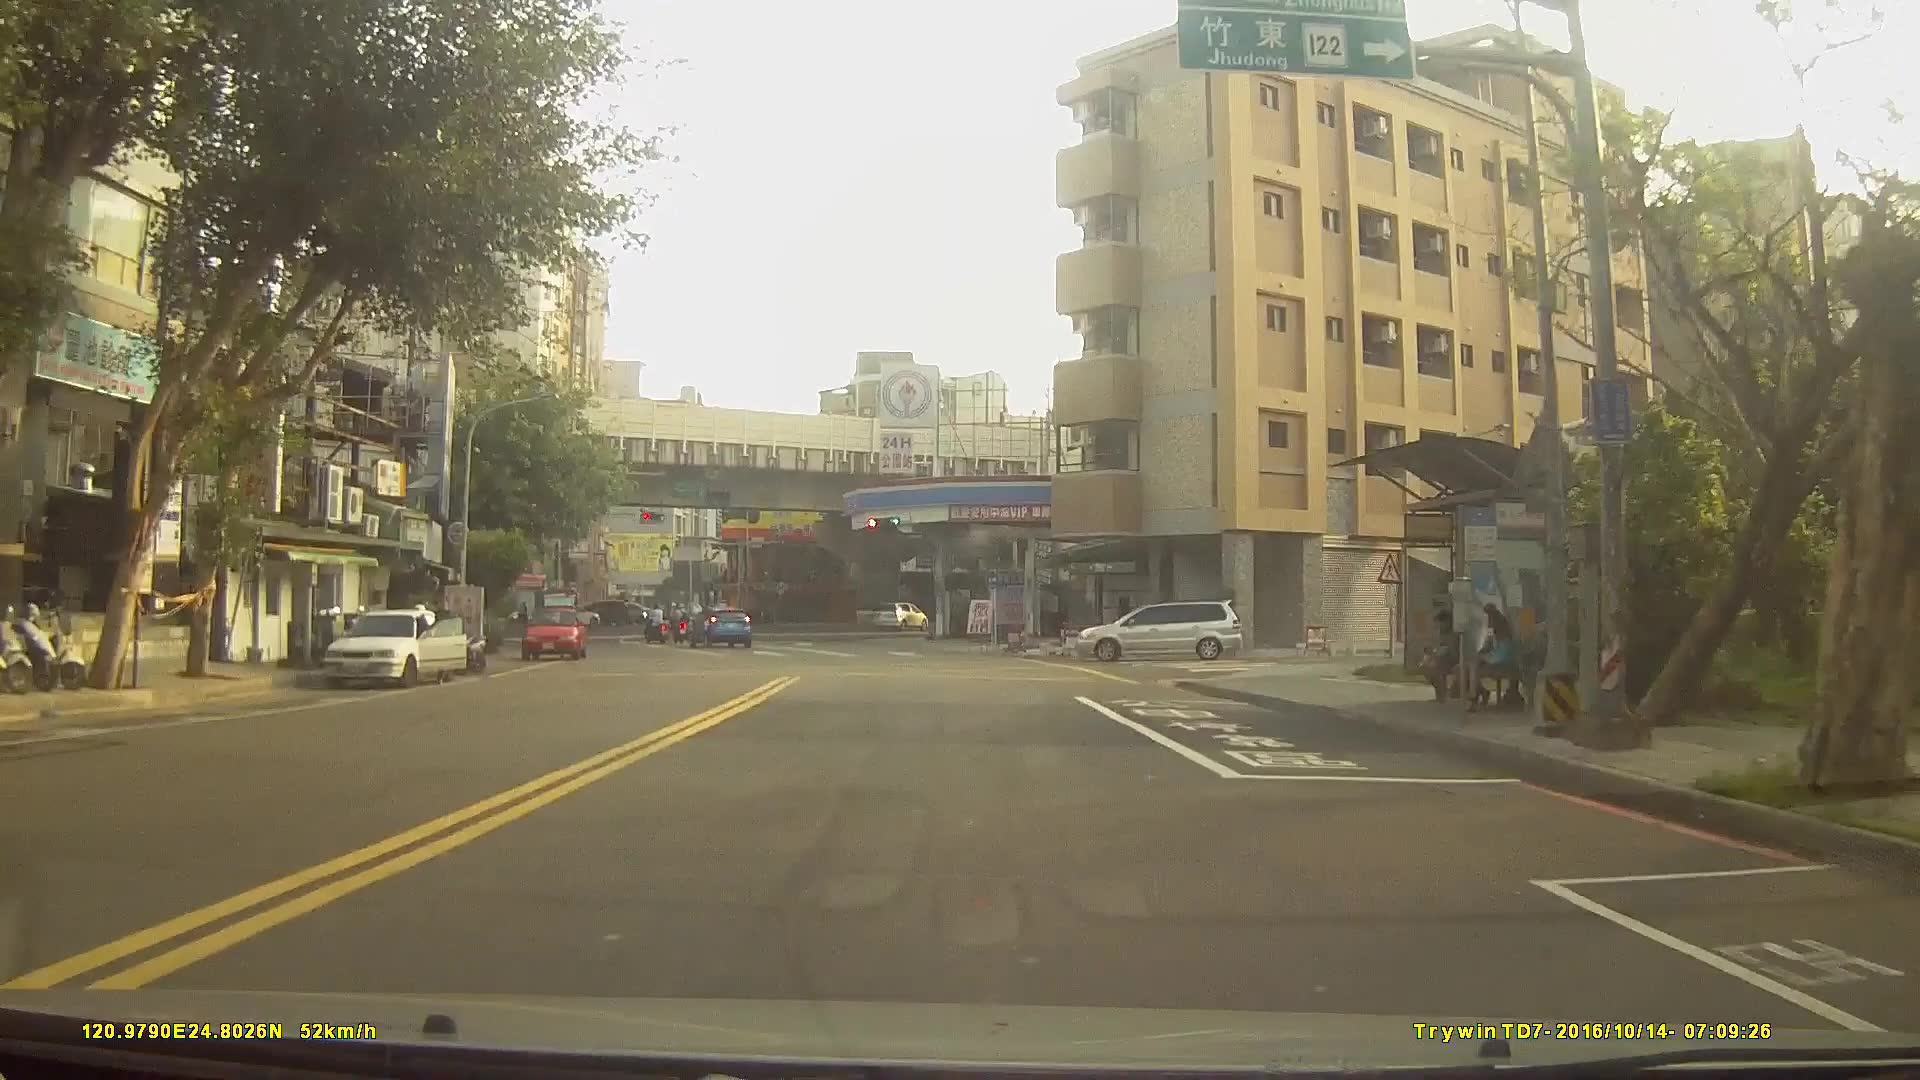pedestrian: (1471, 601, 1530, 708), (1424, 607, 1466, 699)
rider: (644, 605, 672, 648)
vehicle: (320, 604, 470, 687), (1072, 598, 1245, 659), (521, 605, 585, 661), (684, 604, 755, 649), (869, 601, 929, 631), (575, 597, 632, 627)
